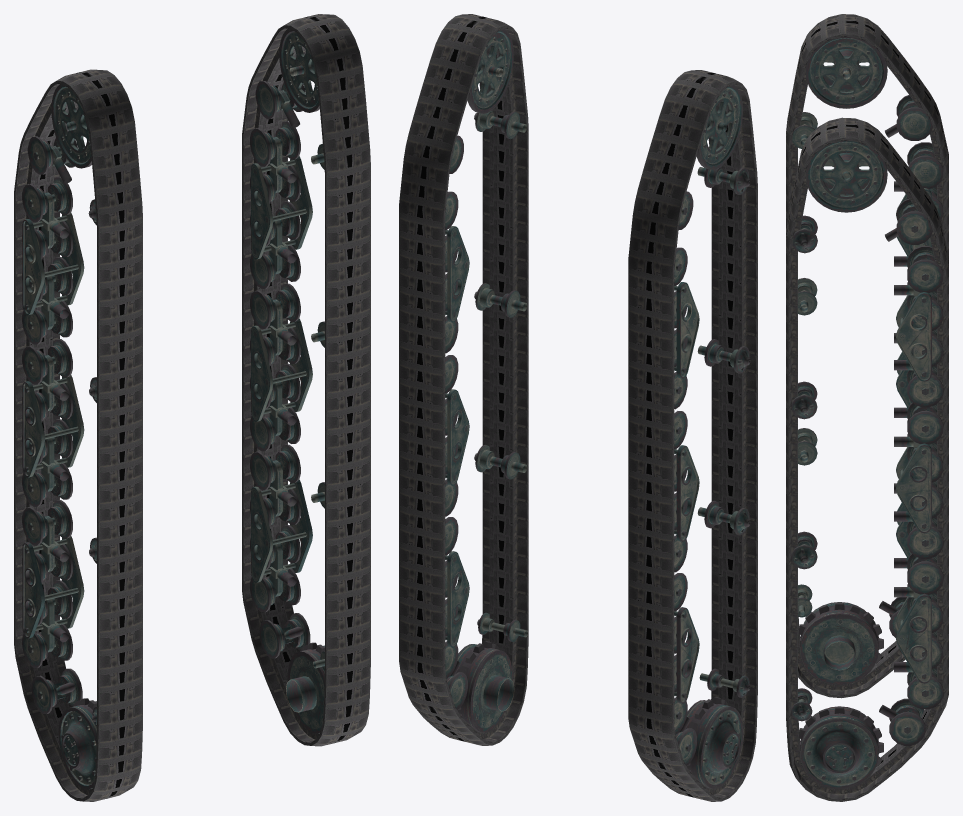
Rendered from Chassis.glb.
The picture shows the model from 3 angles, left to right: view 1: azimuth 30°, elevation 25°; view 2: azimuth 150°, elevation 25°; view 3: azimuth 270°, elevation 25°; orthographic projection. The views are drawn at different scales.
Visible parts, largest first — view 1: set_0_group_0, set_1_group_0, set_5_group_0, set_3_group_0, set_2_group_0, set_4_group_0; view 2: set_1_group_0, set_0_group_0, set_3_group_0, set_5_group_0, set_2_group_0, set_4_group_0; view 3: set_5_group_0, set_0_group_0, set_3_group_0, set_1_group_0, set_4_group_0, set_2_group_0.
Boxes of the visible parts, <box> form: set_0_group_0: <box>242,14,370,746</box>; set_1_group_0: <box>14,69,142,801</box>; set_5_group_0: <box>250,28,324,733</box>; set_3_group_0: <box>22,84,96,789</box>; set_2_group_0: <box>22,192,84,652</box>; set_4_group_0: <box>251,137,312,596</box>; set_1_group_0: <box>628,70,757,801</box>; set_0_group_0: <box>399,14,528,745</box>; set_3_group_0: <box>674,85,750,788</box>; set_5_group_0: <box>445,29,527,732</box>; set_2_group_0: <box>674,282,699,703</box>; set_4_group_0: <box>445,226,469,647</box>; set_5_group_0: <box>791,140,943,789</box>; set_0_group_0: <box>786,117,948,801</box>; set_3_group_0: <box>792,37,943,684</box>; set_1_group_0: <box>786,14,948,698</box>; set_4_group_0: <box>894,285,931,683</box>; set_2_group_0: <box>894,181,931,568</box>.
Bounding box in the file's own units: 2.16 × 5.39 × 1.19.
Materials: 6 (6 with a texture image).
